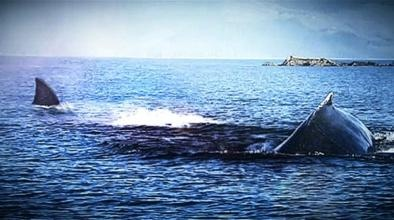fish: (256, 89, 376, 159), (26, 66, 83, 110)
